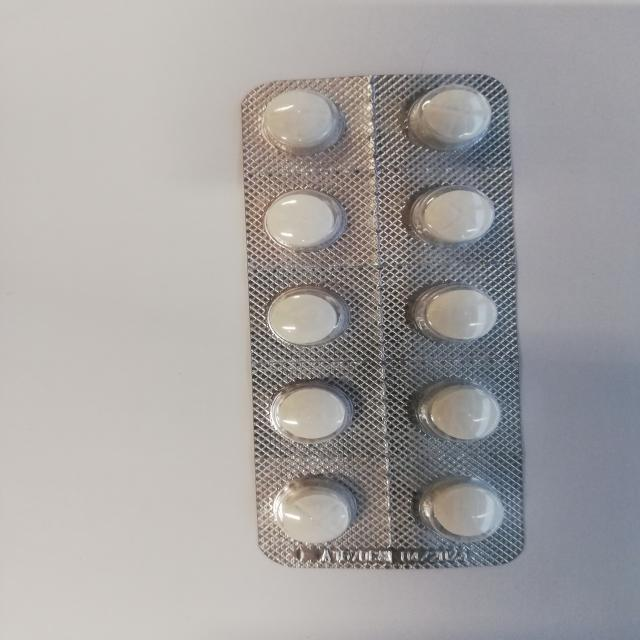Pill: (398, 80, 504, 158), (246, 88, 354, 160), (267, 472, 359, 552), (406, 180, 508, 252), (409, 280, 511, 352), (416, 476, 514, 548), (265, 376, 359, 448), (411, 375, 506, 446), (258, 284, 348, 348), (261, 185, 337, 254)
